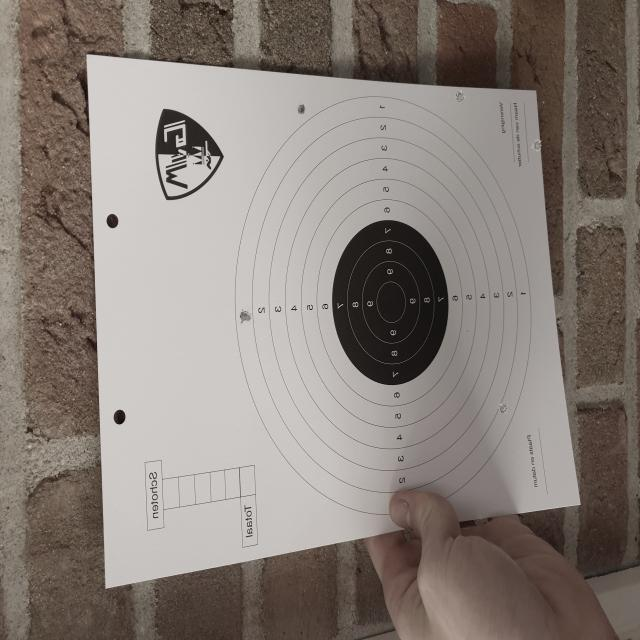0: (456, 90, 466, 102), (498, 402, 508, 414), (531, 140, 541, 151), (297, 104, 305, 115)
1: (238, 311, 246, 324)
2: (246, 309, 253, 321)
Target: (234, 95, 532, 511)
black_contour: (332, 220, 449, 386)
